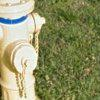Hydrant: (1, 2, 56, 100)
